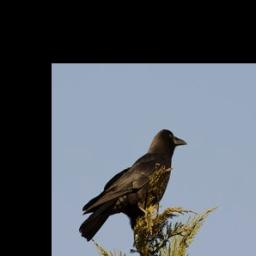Crow: (78, 125, 189, 246)
